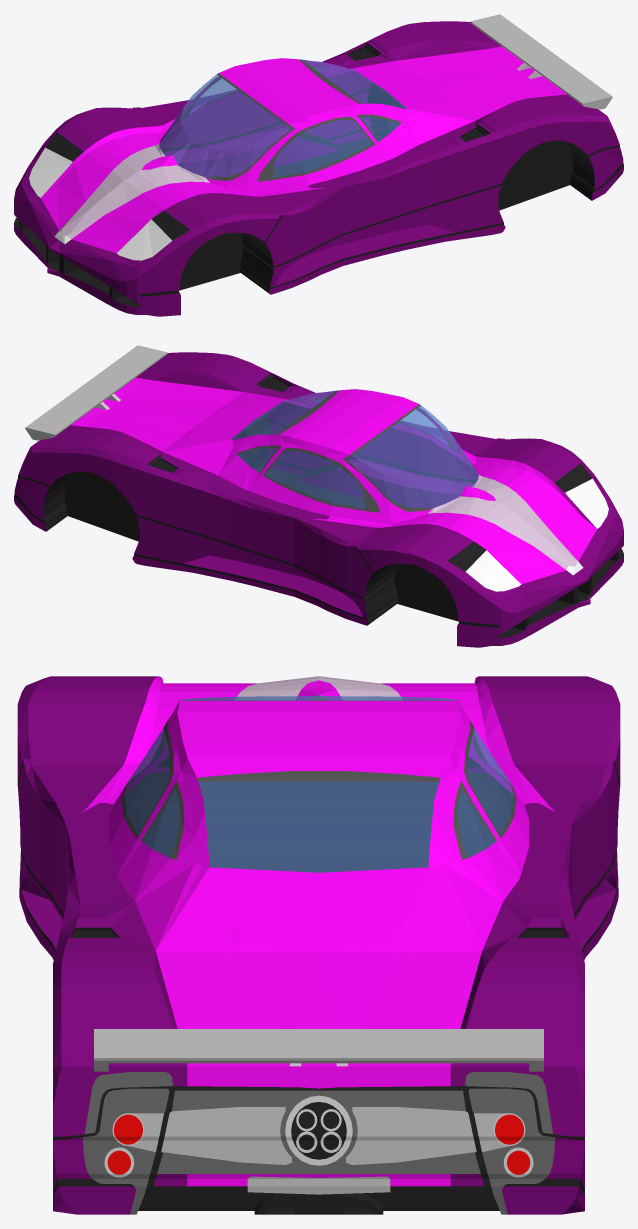
The model's file is Zonda.fbx.
3 views of the same model, one above another, from view 1: azimuth 30°, elevation 25°; view 2: azimuth 150°, elevation 25°; view 3: azimuth 270°, elevation 25° (orthographic). The views are drawn at different scales.
Visible parts, largest first — view 1: _(Loose Entity); view 2: _(Loose Entity); view 3: _(Loose Entity).
Boxes of the visible parts, box(x1,y1,x2,y2) form: _(Loose Entity): box(14, 14, 623, 316); _(Loose Entity): box(14, 345, 623, 647); _(Loose Entity): box(17, 676, 620, 1214).
Bounding box in the file's own units: 242 × 60.36 × 123.
